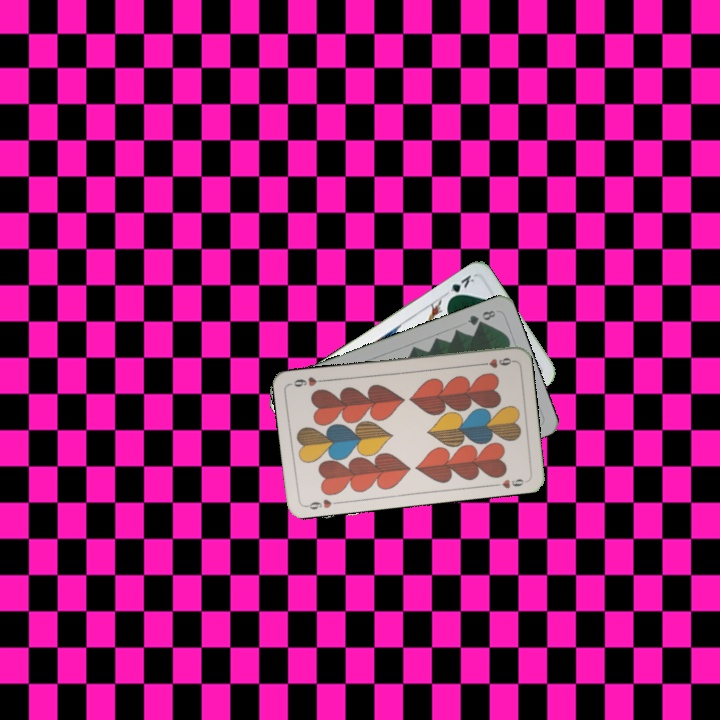G8: (463, 306, 498, 328)
GK: (440, 271, 477, 303)
H9: (475, 354, 516, 371), (301, 495, 334, 512)
